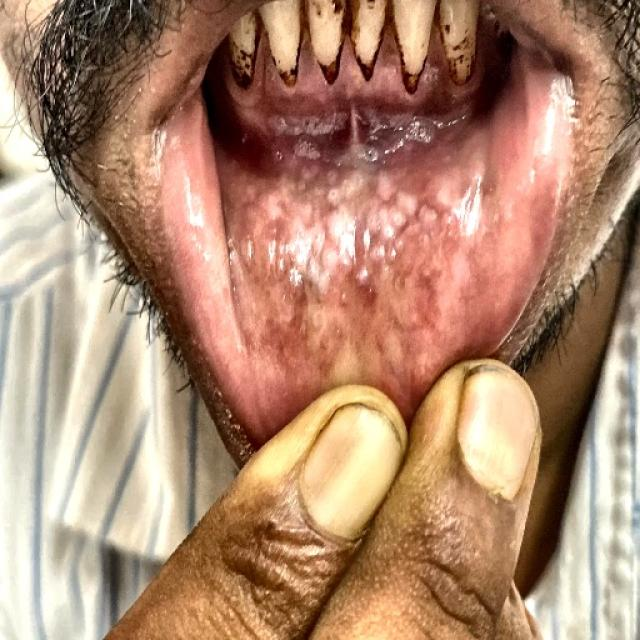cancer-detection: (217, 111, 502, 433)
processing_area: (206, 35, 566, 435)
